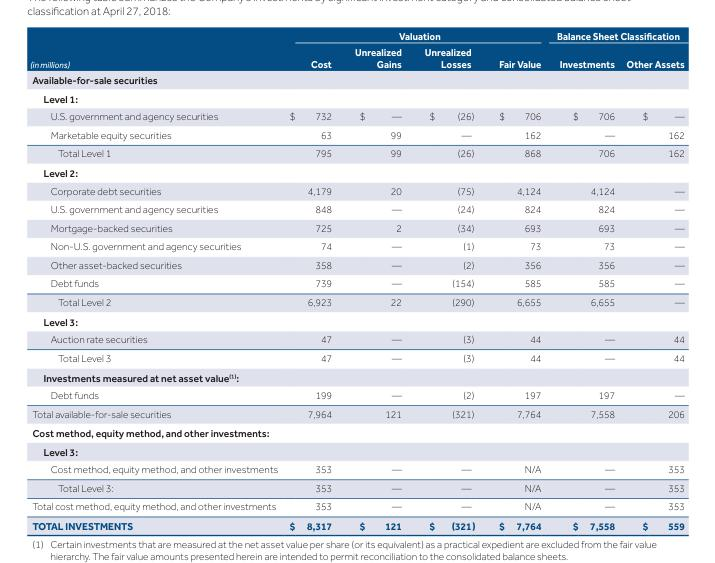table: (29, 29, 683, 531)
table column: (29, 29, 283, 531), (412, 29, 486, 531), (548, 29, 619, 531), (342, 29, 412, 531), (619, 29, 683, 531), (486, 29, 548, 531), (283, 29, 342, 531)
table column header: (29, 29, 683, 71)
table projected row header: (29, 311, 683, 331), (29, 367, 683, 387), (29, 89, 683, 108), (29, 163, 683, 182), (29, 423, 683, 442), (29, 442, 683, 461), (29, 71, 683, 89)
table row: (29, 43, 683, 71), (29, 311, 683, 331), (29, 367, 683, 387), (29, 89, 683, 108), (29, 126, 683, 145), (29, 163, 683, 182), (29, 182, 683, 201), (29, 219, 683, 238), (29, 256, 683, 275), (29, 275, 683, 294), (29, 423, 683, 442), (29, 442, 683, 461), (29, 479, 683, 498), (29, 71, 683, 89), (29, 108, 683, 126), (29, 145, 683, 163), (29, 201, 683, 219), (29, 238, 683, 256), (29, 331, 683, 349), (29, 349, 683, 367), (29, 387, 683, 405), (29, 405, 683, 423), (29, 461, 683, 479), (29, 498, 683, 516), (29, 294, 683, 311), (29, 516, 683, 531), (29, 29, 683, 43)
table spanning cell: (29, 29, 283, 71), (283, 29, 548, 43), (548, 29, 683, 43)
